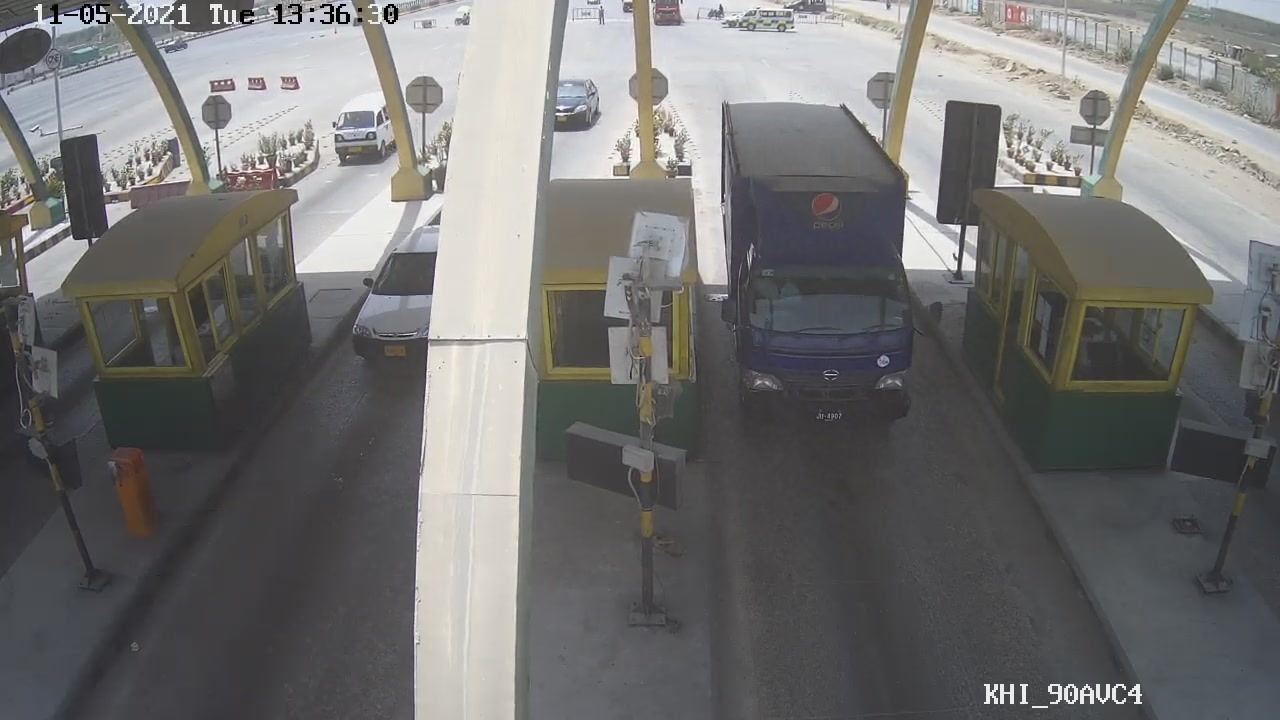F5: (702, 91, 946, 441)
